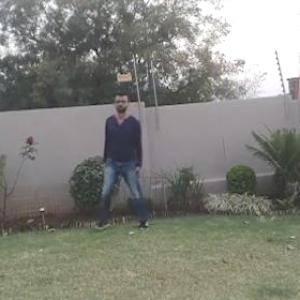follow: (105, 90, 154, 242)
